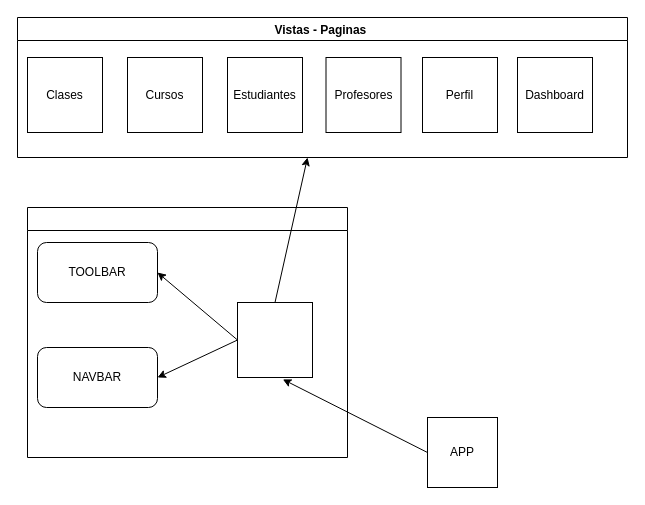
Some shapes in this 645 by 505 pixel diagram are drawn without their labels. Each missing label, with the box of its shape:
Container: (26, 206, 348, 458)
main: (236, 302, 312, 378)
